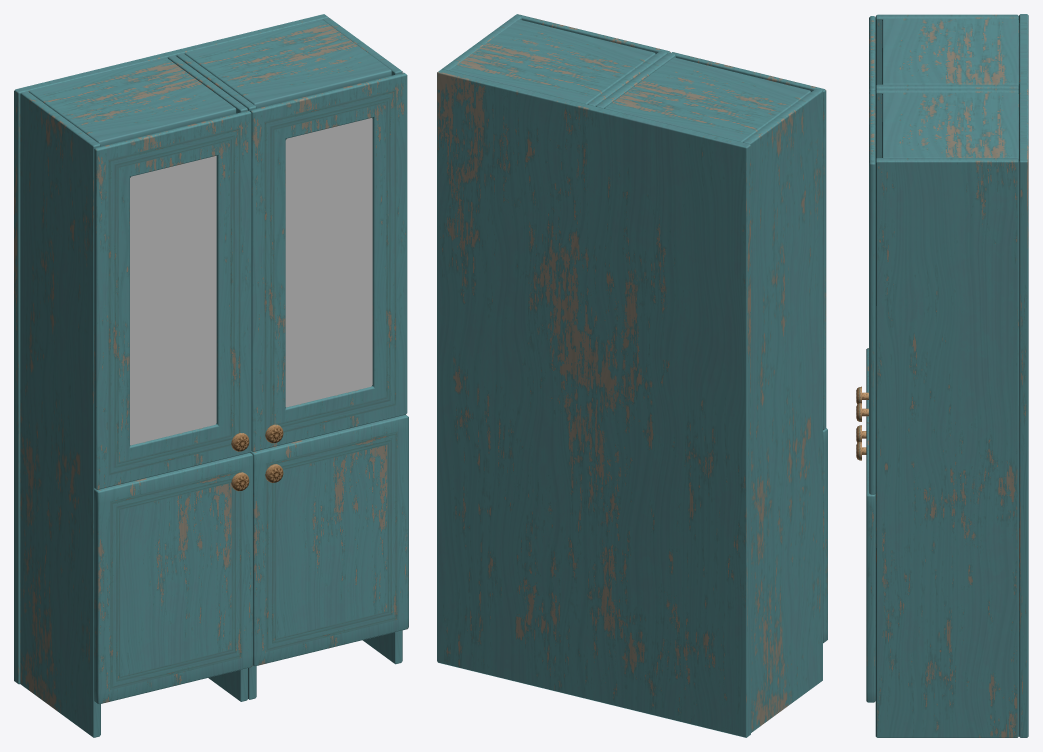
The model's file is blue-kitchen2.obj.
3 renders of one model, left to right at view 1: azimuth 30°, elevation 25°; view 2: azimuth 150°, elevation 25°; view 3: azimuth 270°, elevation 25°, orthographic. The views are drawn at different scales.
Visible parts, largest first — view 1: blue_kitchen2:Cabinet_Shelf_DFBXASC046012; view 2: blue_kitchen2:Cabinet_Shelf_DFBXASC046012; view 3: blue_kitchen2:Cabinet_Shelf_DFBXASC046012.
Boxes of the visible parts, left/top/right/bottom form: blue_kitchen2:Cabinet_Shelf_DFBXASC046012: left=14, top=14, right=408, bottom=737; blue_kitchen2:Cabinet_Shelf_DFBXASC046012: left=437, top=14, right=827, bottom=737; blue_kitchen2:Cabinet_Shelf_DFBXASC046012: left=856, top=14, right=1028, bottom=737.
Size of the model in its own units: 147 by 267 by 72.11.
Materials: 2 (1 with a texture image).
